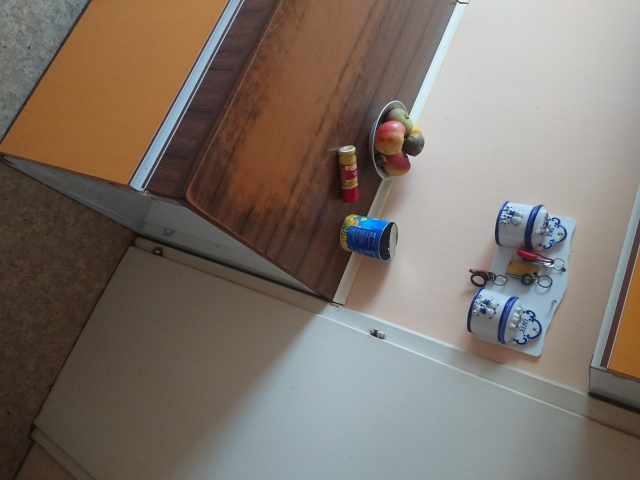Kotanyi Curry Spices Mix 70g: (335, 142, 360, 204)
